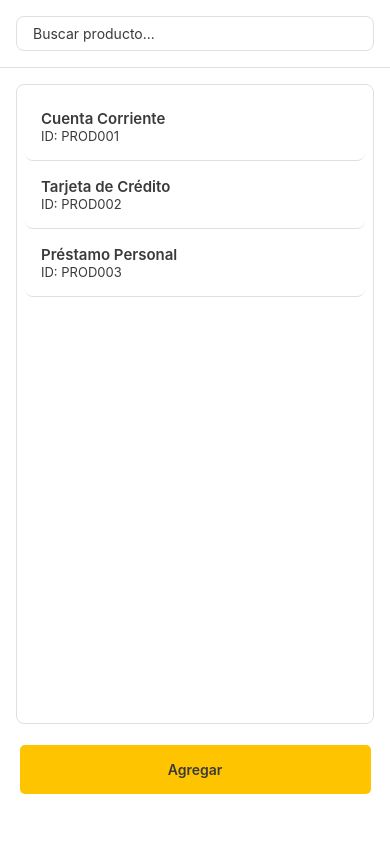
Test: ProductsListScreen › búsqueda de productos › debe filtrar productos por nombre
Expected: the text "Cuenta Corriente" is shown, [41, 109, 165, 128]
Type "Tarjeta" into the field with placeholder "Buscar producto..." at x=195, y=34, box [16, 16, 374, 51]
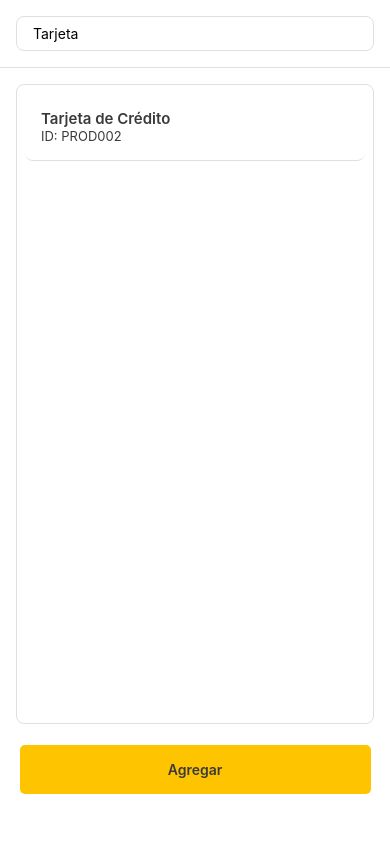
Expected: the text "Tarjeta de Crédito" is shown, [41, 109, 170, 128]
Expected: the text "Cuenta Corriente" is gone
